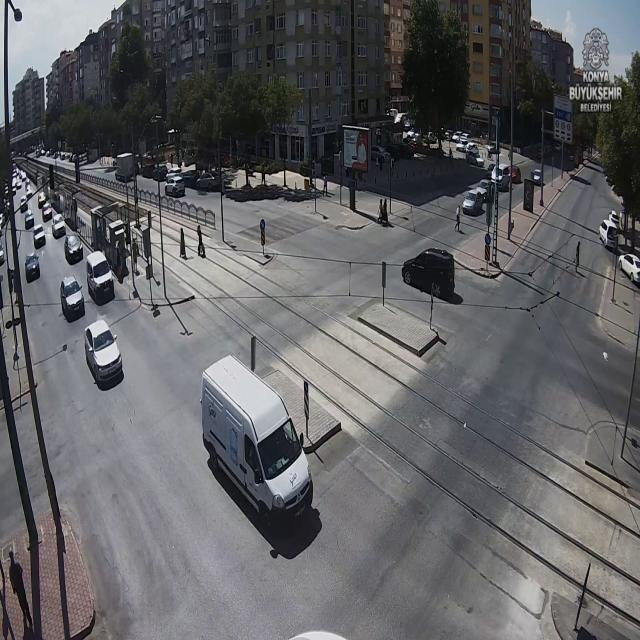Car: (84, 321, 124, 384), (60, 276, 84, 323), (619, 252, 640, 284), (23, 251, 41, 280), (462, 191, 484, 214), (64, 235, 81, 263), (164, 176, 186, 197), (50, 212, 66, 238), (32, 225, 46, 247), (24, 210, 34, 230), (532, 167, 542, 185)
Truck: (200, 355, 317, 526), (114, 152, 135, 180), (599, 220, 617, 249), (492, 164, 510, 191)
Van: (401, 248, 457, 298), (87, 250, 115, 300)
